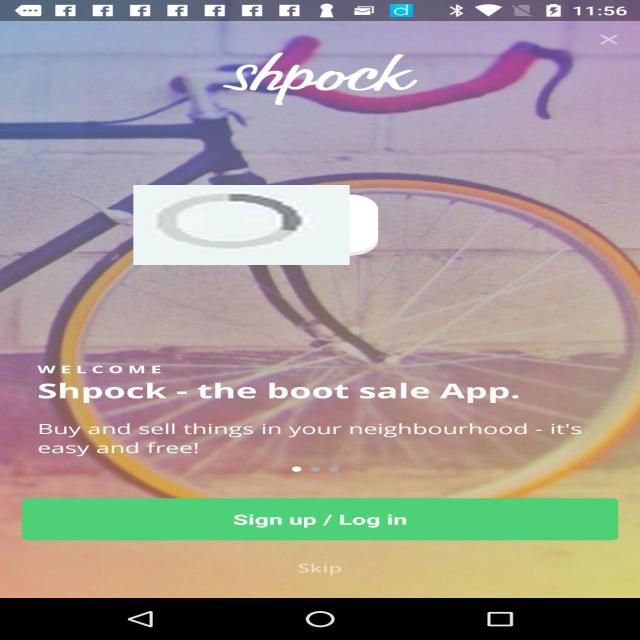misdirection: (133, 185, 350, 265)
